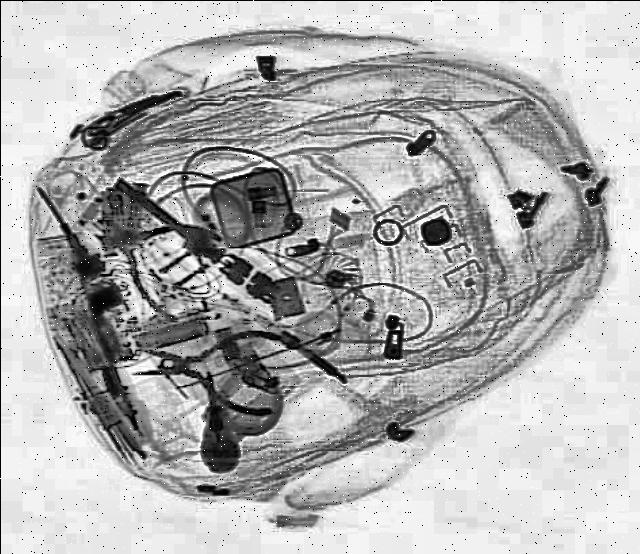Pliers: (59, 186, 237, 326), (125, 324, 281, 420)
